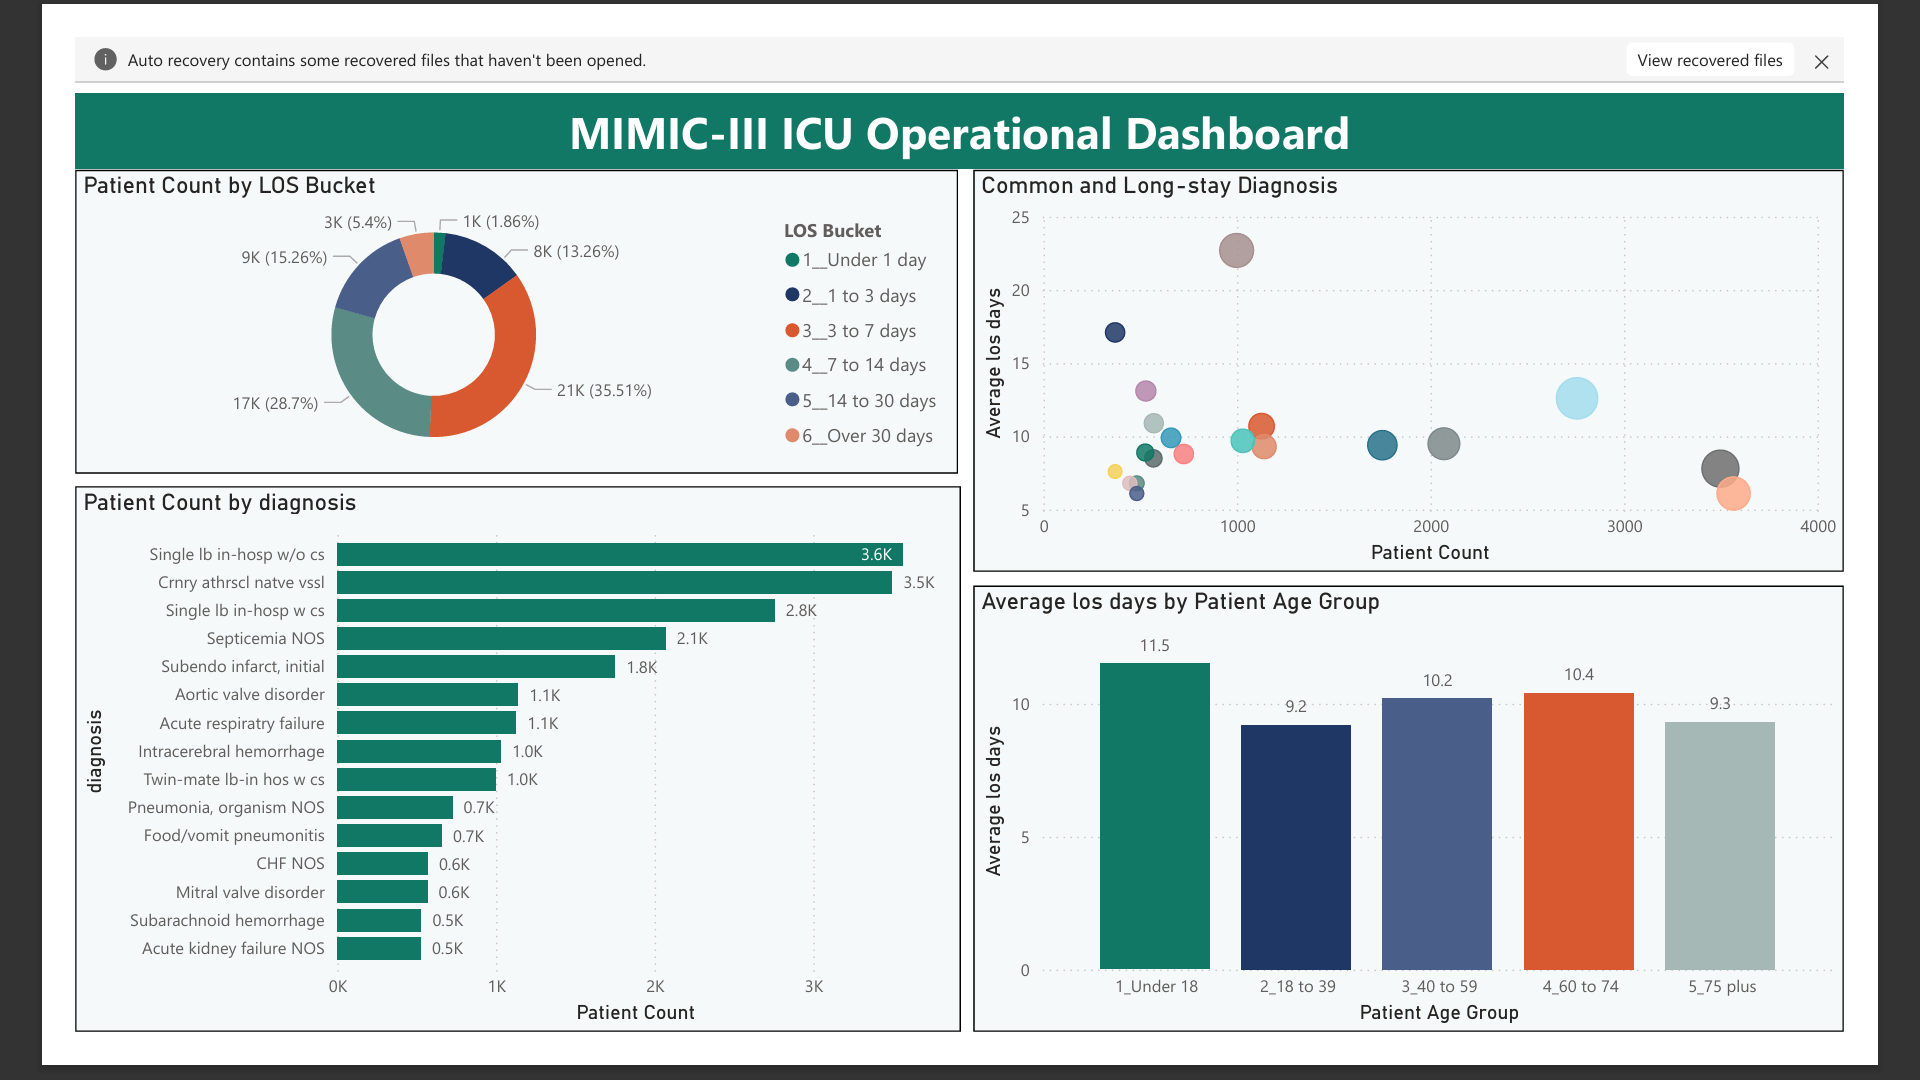

The dashboard page shown, as its layout file describes it:
{"tool":"powerbi","page":{"name":"Diagnoses & LOS","canvas":[1280,720],"ordinal":3},"visuals":[{"type":"textbox","box":[0,41.2,1280.3,54.9],"z":0},{"type":"clusteredBarChart","fields":{"Category":["Top_diagnoses.diagnosis"],"Y":["Sum(Top_diagnoses.patient_count)"]},"box":[0,325.2,640.8,395.2],"z":1000},{"type":"scatterChart","title":"Common and Long-stay Diagnosis","fields":{"X":["Sum(Top_diagnoses.patient_count)"],"Y":["Sum(Top_diagnoses.avg_los_days)"],"Size":["Sum(Top_diagnoses.total_bed_days)"],"Category":["Top_diagnoses.diagnosis"]},"box":[650.4,96.1,629.8,290.9],"z":2000},{"type":"donutChart","fields":{"Category":["LOS.los_bucket"],"Y":["Sum(LOS.patient_count)"]},"box":[0,96.1,639.5,219.6],"z":3000},{"type":"clusteredColumnChart","fields":{"Category":["Patient_age.age_group"],"Y":["Sum(Patient_age.avg_los_days)"]},"box":[650.4,396.6,629.8,323.8],"z":4000}]}

Visuals, with their boxes on the page's 1280x720 design canvas (x1, y1, x2, y2). These are canvas units, not pixel positions in the 1920x1080 screenshot, which may show the page scaled, cropped or inside an application window:
textbox: 0,41,1280,96
clusteredBarChart - Top_diagnoses.diagnosis x Sum(Top_diagnoses.patient_count): 0,325,641,720
"Common and Long-stay Diagnosis" scatterChart: 650,96,1280,387
donutChart - LOS.los_bucket x Sum(LOS.patient_count): 0,96,640,316
clusteredColumnChart - Patient_age.age_group x Sum(Patient_age.avg_los_days): 650,397,1280,720
